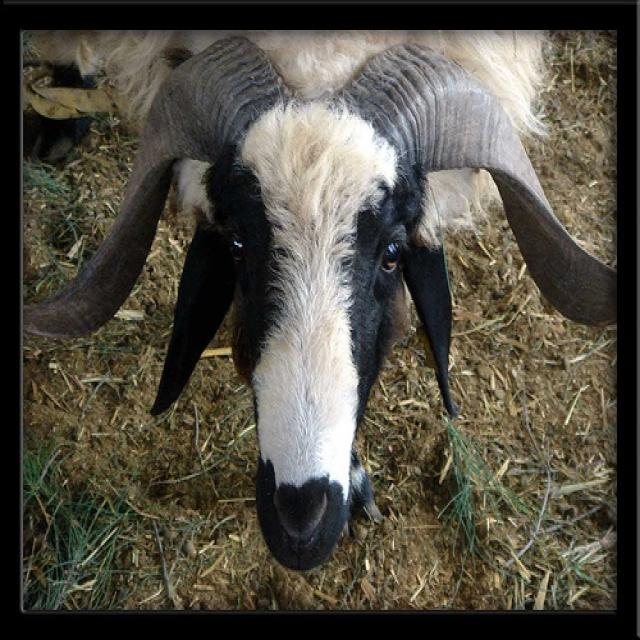sheep: (21, 33, 618, 571)
